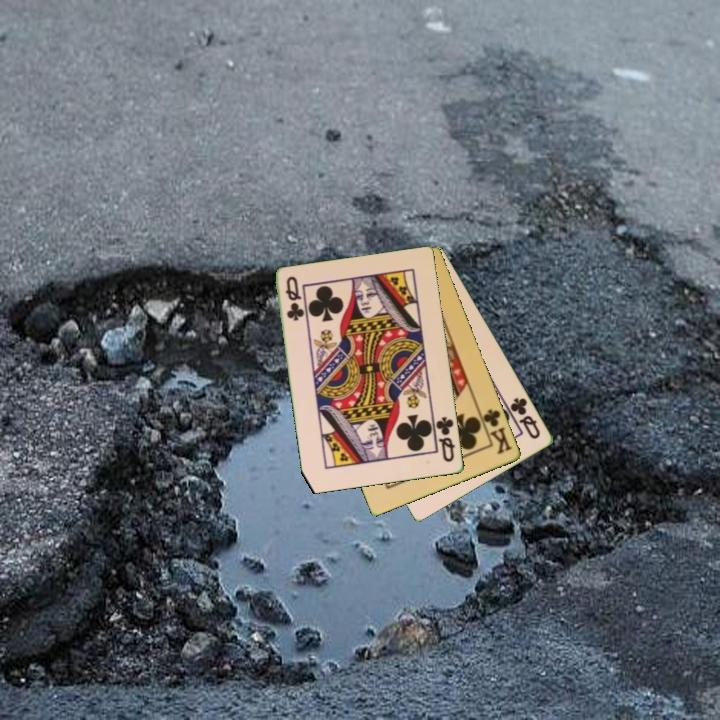Kc: (476, 406, 515, 458)
Qc: (507, 394, 544, 442), (430, 413, 458, 465), (282, 273, 306, 324)
